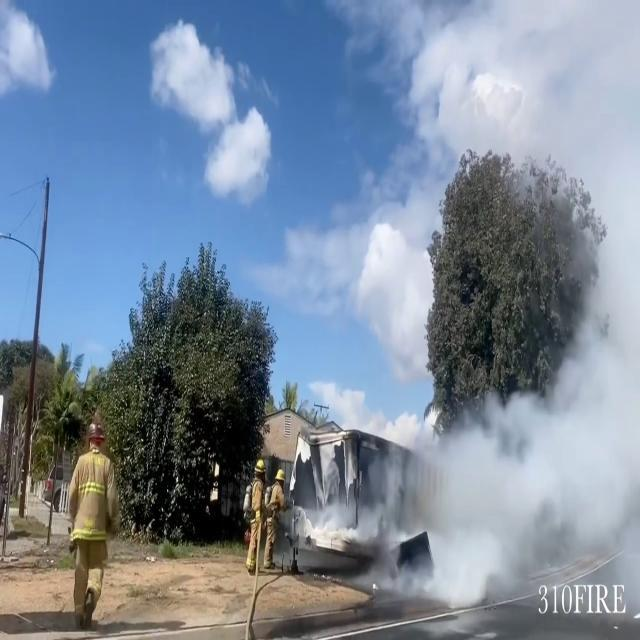Smoke: (316, 123, 640, 612)
